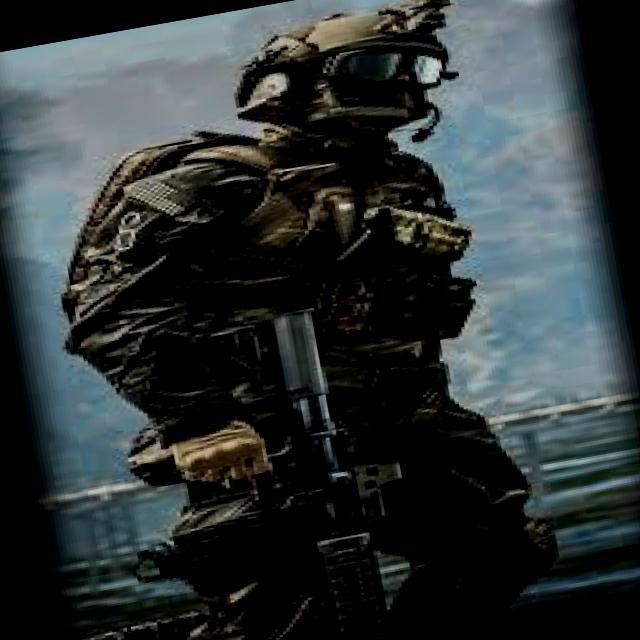long weapon: (108, 276, 440, 639)
